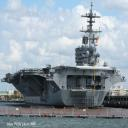Portanaves: (2, 2, 128, 111)
